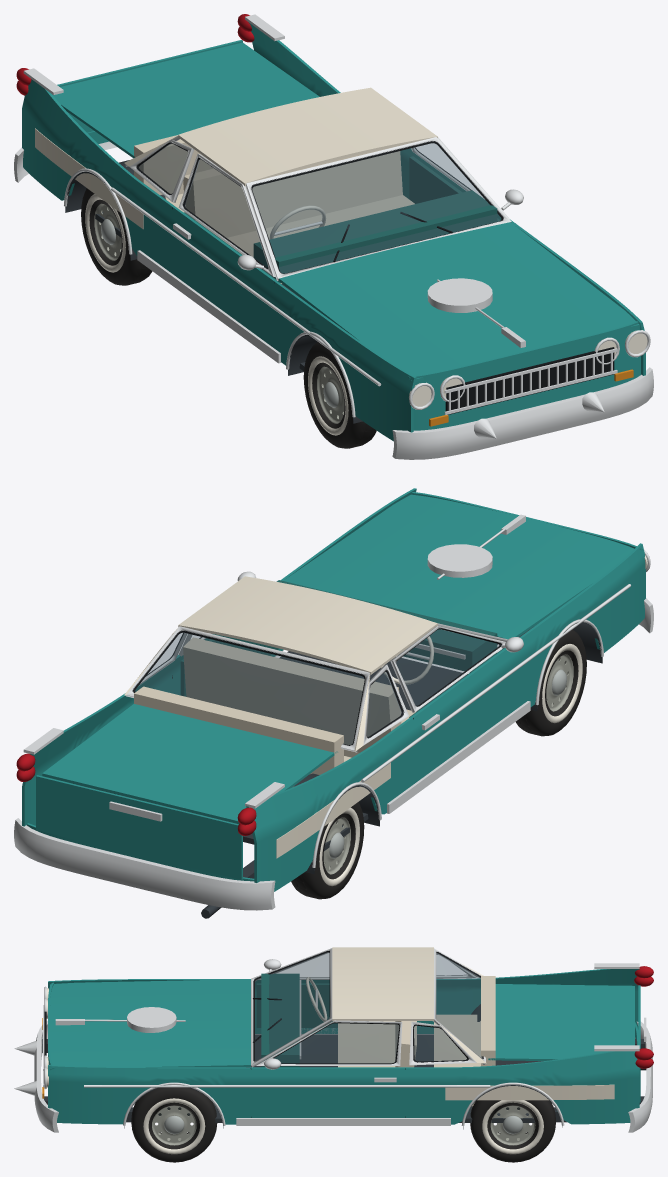
File: starfin.glb
3 views of the same model, one above another, from view 1: azimuth 30°, elevation 25°; view 2: azimuth 150°, elevation 25°; view 3: azimuth 270°, elevation 25° (orthographic). The views are drawn at different scales.
Visible parts, largest first — view 1: panel_hoodStarfin, glass_FrontStarfin, panel_BootStarfin, panel_RoofStarfin, Interior Starfin FrontBenchBack, Interior Starfin Dashboard, panel_RearQuarterLStarfin, panel_FrontWingLStarfin, panel_bumper_frontStarfin, panel_StarfinfrontValance, panel_BodyDoorLStarfin, glass_BodyDoorLStarfin (+26 smaller); view 2: panel_hoodStarfin, panel_BootStarfin, panel_RoofStarfin, glass_RearStarfin, Interior Starfin FrontBenchBack, panel_StarfinRearPanel, panel_RearQuarterLStarfin, panel_bumper_rearStarfin, panel_FrontWingLStarfin, panel_BodyDoorLStarfin, Interior Starfin RearBenchBack, glass_BodyDoorLStarfin (+22 smaller); view 3: panel_hoodStarfin, panel_BootStarfin, panel_RearQuarterRStarfin, panel_FrontWingRStarfin, panel_RoofStarfin, panel_BodyDoorRStarfin, glass_FrontStarfin, glass_BodyDoorRStarfin, panel_RearQuarterLStarfin, glass_RearStarfin, Interior Starfin Dashboard, Tire_Marten_Carcass_FR (+28 smaller).
Boxes of the visible parts, x1,y1,x2,y2 form: panel_hoodStarfin: (279,222,639,381); glass_FrontStarfin: (252,143,500,273); panel_BootStarfin: (52,42,319,158); panel_RoofStarfin: (178,87,437,185); Interior Starfin FrontBenchBack: (183,147,402,238); Interior Starfin Dashboard: (253,190,497,282); panel_RearQuarterLStarfin: (22,79,174,271); panel_FrontWingLStarfin: (271,281,416,441); panel_bumper_frontStarfin: (392,367,653,459); panel_StarfinfrontValance: (408,321,640,430); panel_BodyDoorLStarfin: (169,206,276,345); glass_BodyDoorLStarfin: (185,159,267,267); panel_hoodStarfin: (283,494,642,639); panel_BootStarfin: (42,704,337,823); panel_RoofStarfin: (178,576,437,674); glass_RearStarfin: (135,633,364,744); Interior Starfin FrontBenchBack: (183,637,401,752); panel_StarfinRearPanel: (36,775,242,879); panel_RearQuarterLStarfin: (246,717,416,891); panel_bumper_rearStarfin: (14,818,275,910); panel_FrontWingLStarfin: (517,543,645,707); panel_BodyDoorLStarfin: (411,648,518,781); Interior Starfin RearBenchBack: (134,686,343,786); glass_BodyDoorLStarfin: (396,629,498,705); panel_hoodStarfin: (50,979,250,1070); panel_BootStarfin: (488,984,634,1060); panel_RearQuarterRStarfin: (405,1051,639,1124); panel_FrontWingRStarfin: (48,1065,250,1124); panel_RoofStarfin: (332,947,433,1020); panel_BodyDoorRStarfin: (251,1067,405,1117); glass_FrontStarfin: (255,952,329,1060); glass_BodyDoorRStarfin: (274,1023,398,1062); panel_RearQuarterLStarfin: (417,969,639,1033); glass_RearStarfin: (436,953,481,1057); Interior Starfin Dashboard: (261,973,299,1067); Tire_Marten_Carcass_FR: (131,1087,217,1162).
Bounding box in the file's own units: 2.2 × 1.38 × 5.67.
